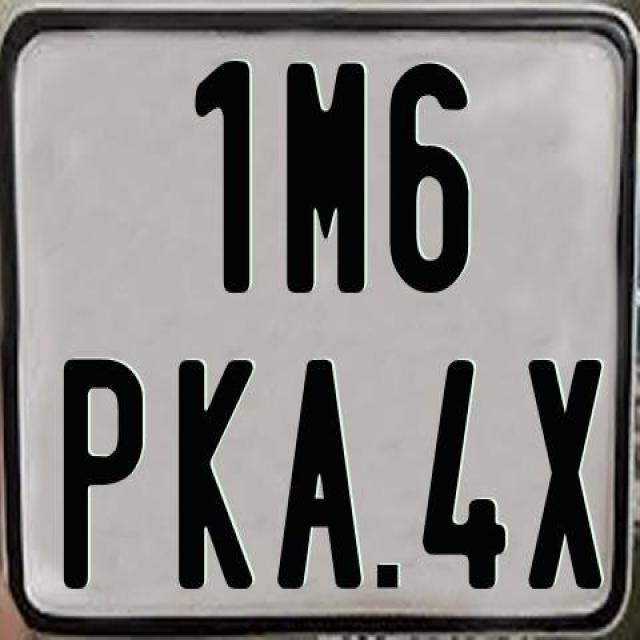1: (190, 60, 253, 302)
4: (418, 360, 506, 589)
6: (386, 61, 470, 294)
A: (274, 355, 358, 587)
K: (175, 355, 252, 584)
M: (286, 61, 368, 296)
P: (62, 355, 142, 595)
X: (526, 358, 604, 589)
